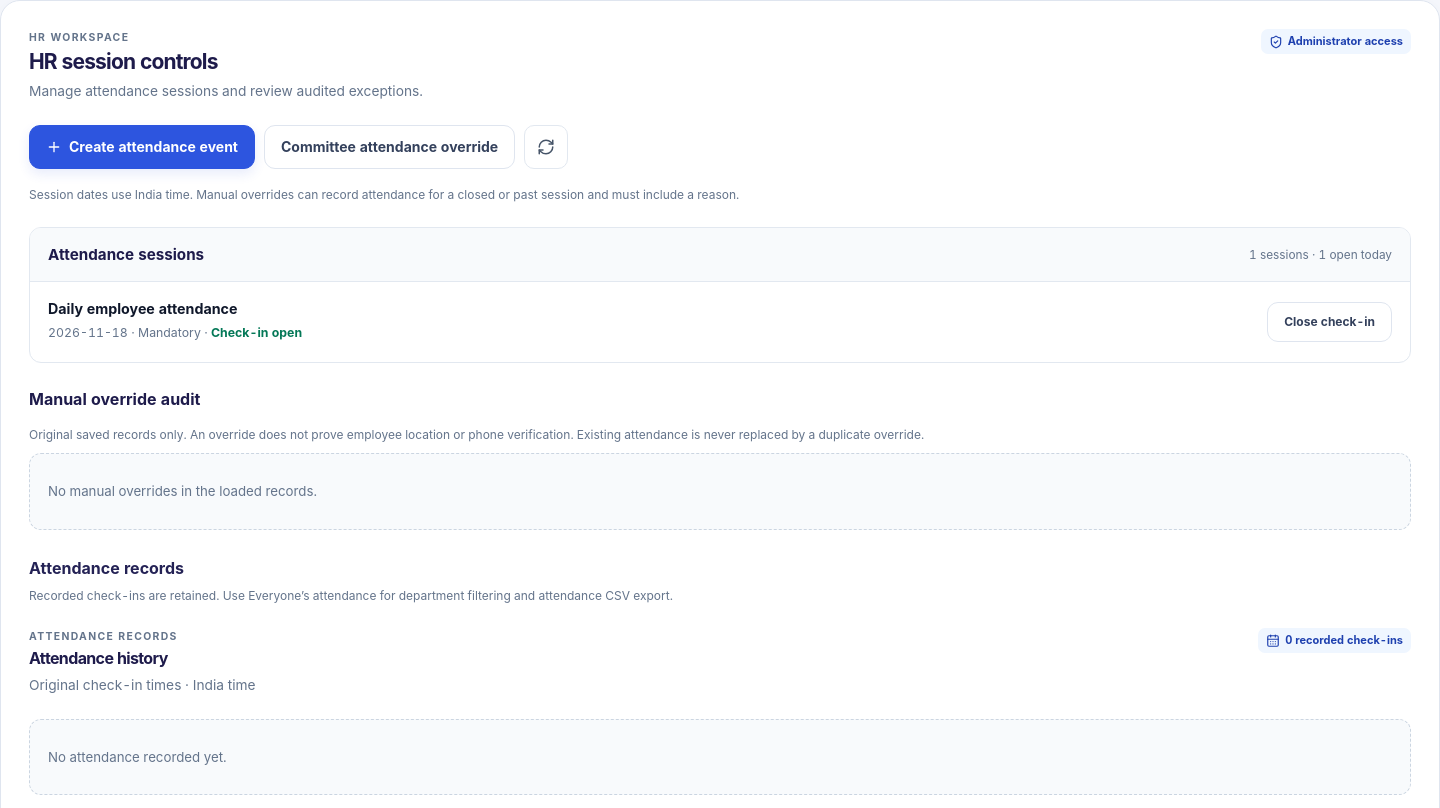
Test: open and close controls send an explicit desired state and show saved status
The image size is (1440, 808).
Click the button with aria-label "Close check-in for Daily employee attendance".
click(1330, 322)  # box [1267,302,1392,342]
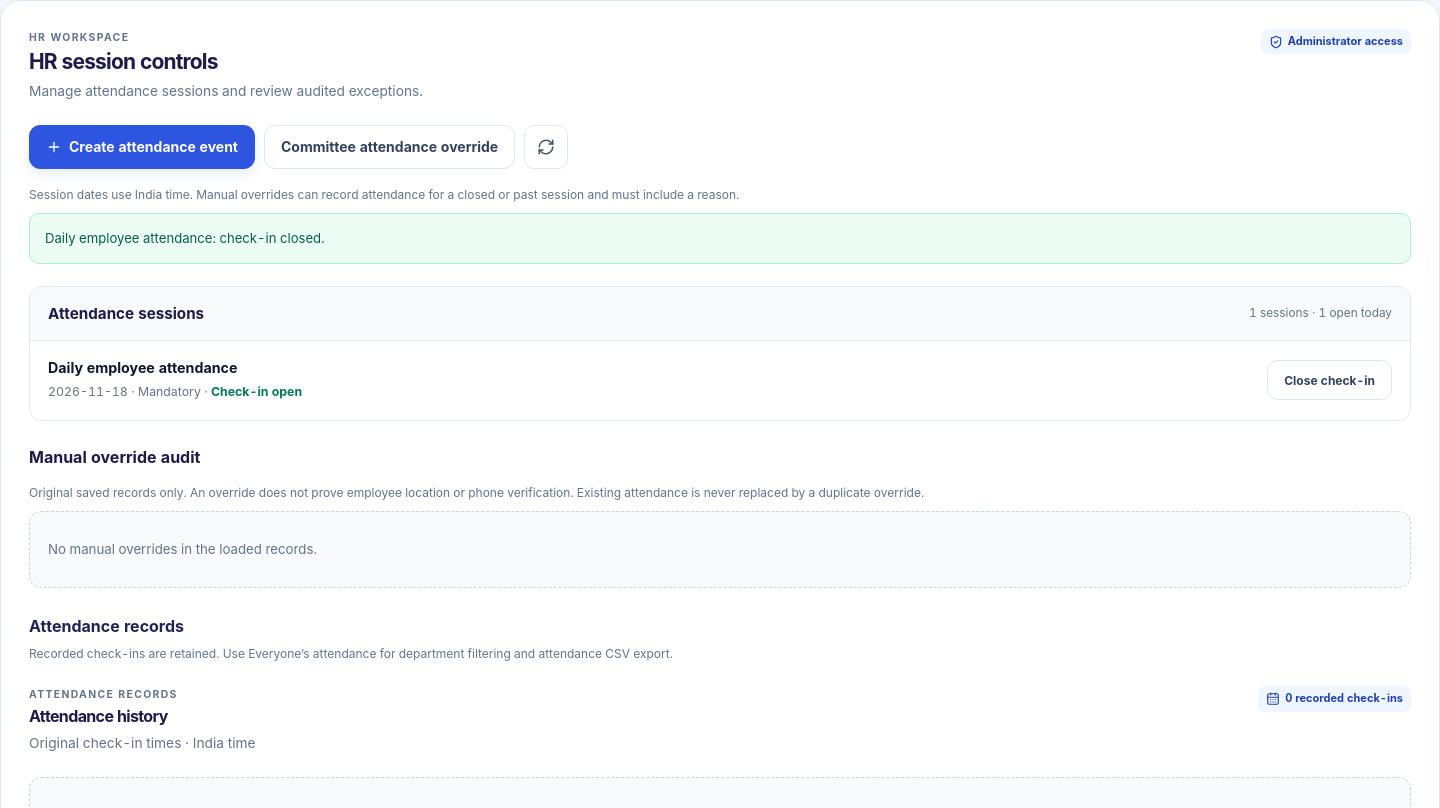
Check: the text "Daily employee attendance: check-in closed." is shown, box [29,213,1411,264]
